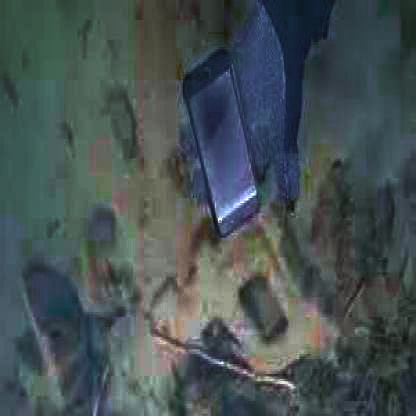cellphone: (182, 47, 262, 240)
